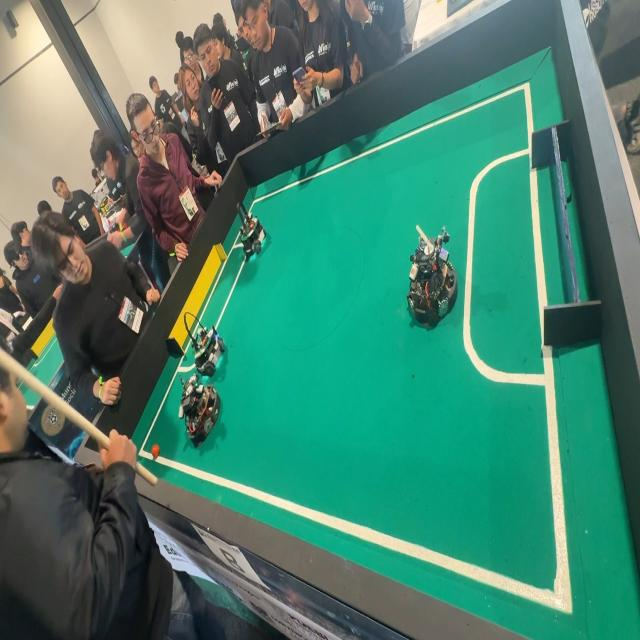Robot: (407, 218, 461, 328), (177, 302, 234, 380), (178, 370, 226, 448), (233, 202, 274, 269)
pelota: (150, 442, 161, 463)
